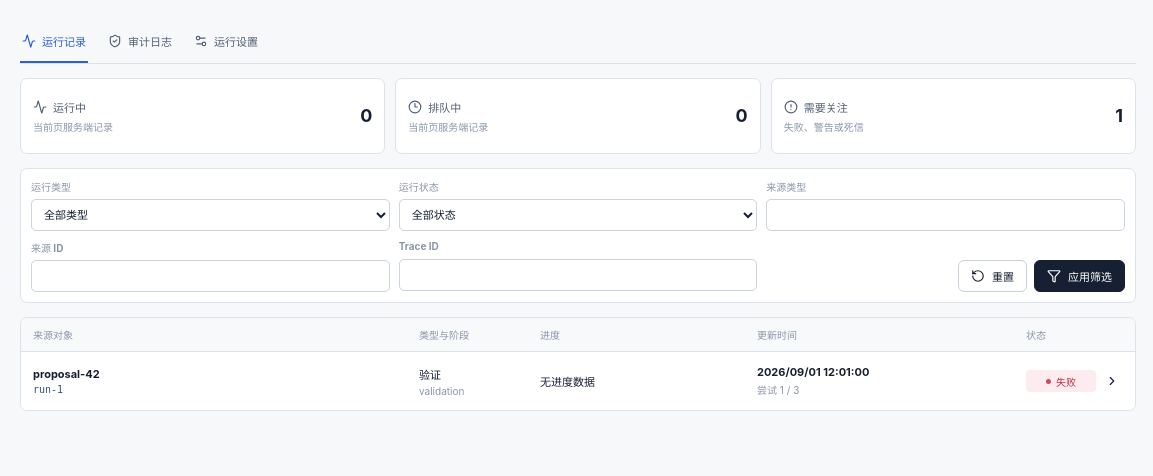
Test: Audit and Runtime view › reports a forbidden audit slice without hiding an available runtime slice
Expected: the button with aria-label "查看运行 proposal-42" is shown, left=21, top=352, right=1135, bottom=410
Click the tab "审计日志" at (140, 42), box left=106, top=20, right=174, bottom=63
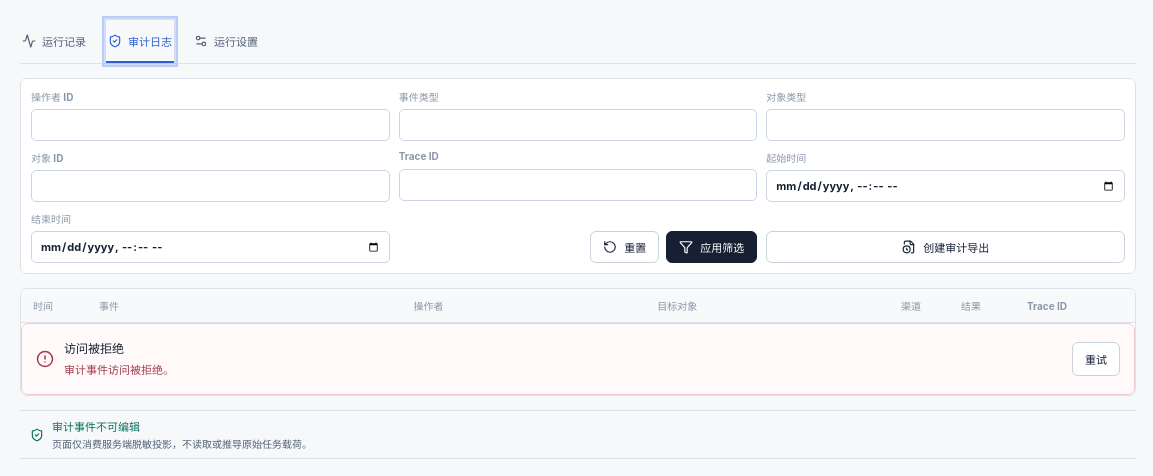
Result: the text "审计事件访问被拒绝。" is shown at left=64, top=363, right=174, bottom=377
Click the tab "运行记录" at (54, 42), box left=20, top=20, right=88, bottom=63
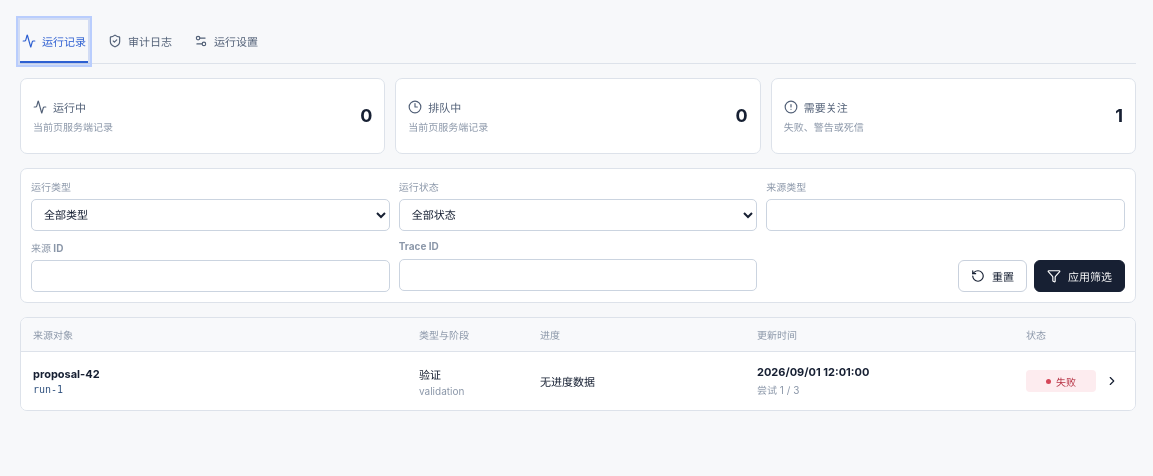
Result: the button with aria-label "查看运行 proposal-42" is shown at left=21, top=352, right=1135, bottom=410
